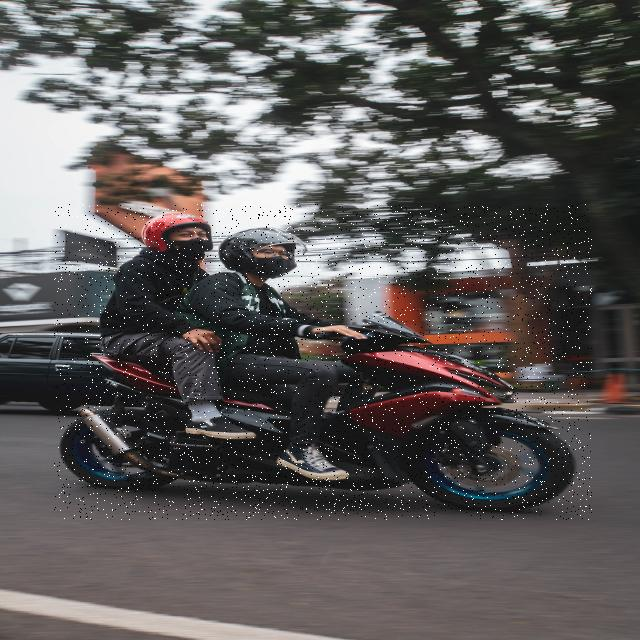With Helmet: (55, 204, 592, 520)
